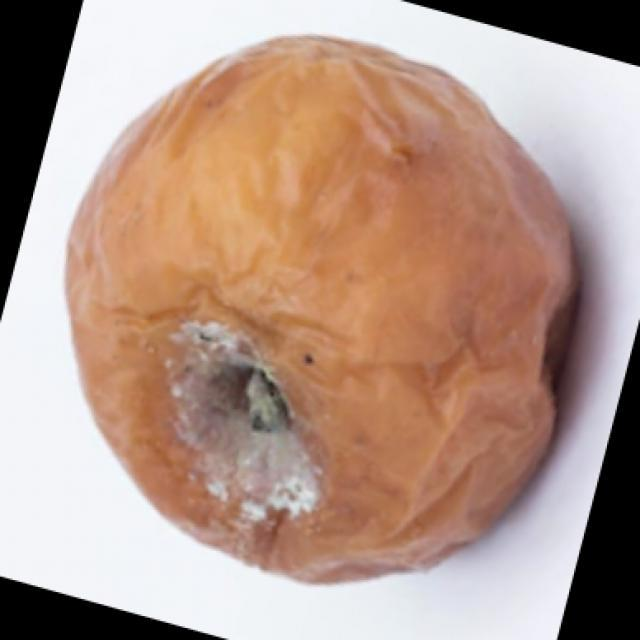Rotten: (75, 55, 617, 567)
